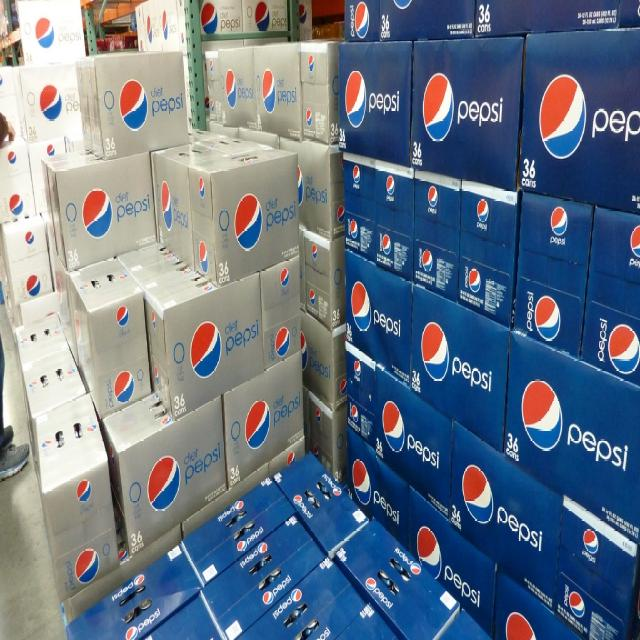pepsi: (537, 68, 589, 160), (520, 377, 565, 451), (419, 71, 456, 142), (460, 461, 495, 529), (149, 456, 186, 515), (189, 321, 223, 384), (420, 322, 451, 384), (342, 71, 373, 129), (245, 397, 276, 451), (120, 78, 151, 132), (37, 78, 68, 132), (347, 450, 378, 504), (415, 521, 446, 575), (235, 194, 265, 249), (610, 322, 640, 377), (535, 293, 565, 348), (83, 188, 113, 242), (347, 278, 377, 332), (379, 400, 409, 454), (156, 182, 177, 229), (218, 68, 240, 110), (258, 69, 279, 112), (116, 374, 135, 405), (36, 17, 54, 49), (7, 188, 25, 220), (24, 272, 42, 304), (76, 480, 94, 512), (114, 302, 132, 334), (551, 206, 569, 238), (583, 527, 601, 559), (569, 589, 587, 621), (475, 195, 493, 227), (552, 202, 570, 234), (466, 264, 484, 296), (421, 244, 439, 276), (275, 326, 291, 358), (570, 588, 587, 618), (356, 4, 371, 38), (203, 3, 219, 33), (257, 3, 273, 31), (584, 527, 601, 553), (629, 227, 640, 263), (429, 185, 439, 209), (387, 177, 396, 198), (350, 220, 359, 240), (383, 237, 393, 253), (353, 167, 362, 183), (281, 270, 290, 286)
